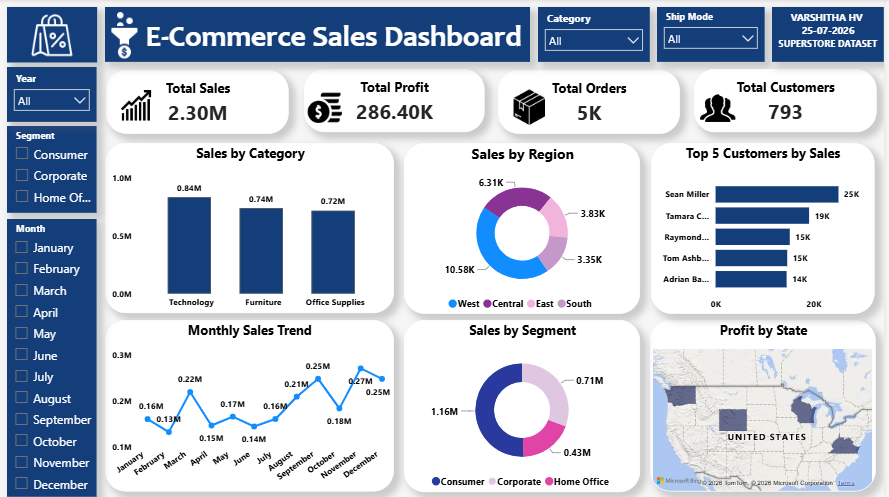

What the dashboard file says about the page in this screenshot:
{"tool":"powerbi","page":{"name":"Page 1","canvas":[1280,720],"ordinal":0},"visuals":[{"type":"cardVisual","fields":{"Data":["Cleaned data.Total Sales"]},"box":[160,101.7,263.3,91.7],"z":0},{"type":"cardVisual","fields":{"Data":["Cleaned data.Total Profit"]},"box":[444.8,101.5,259.7,91],"z":1000},{"type":"cardVisual","fields":{"Data":["Cleaned data.Total Orders"]},"box":[725,101.7,261.7,91.7],"z":2000},{"type":"clusteredColumnChart","title":"Sales by Category","fields":{"Category":["Cleaned data.Category"],"Y":["Sum(Cleaned data.Sales)"]},"box":[158.4,207.4,416.2,244.8],"z":3000},{"type":"filledMap","title":"Profit by State","fields":{"Category":["Cleaned data.State"]},"box":[943.3,461.7,325,246.7],"z":4000},{"type":"donutChart","title":"Sales by Region","fields":{"Category":["Cleaned data.Region"],"Y":["Sum(Cleaned data.Sales)"]},"box":[588.3,206.7,340,246],"z":5000},{"type":"lineChart","title":"Monthly Sales Trend","fields":{"Category":["Cleaned data.Order Date.Variation.Date Hierarchy.Month"],"Y":["Sum(Cleaned data.Sales)"]},"box":[158.4,462.2,416.2,247],"z":6000},{"type":"shape","box":[17.1,12,129.9,80],"z":7000},{"type":"textbox","box":[158.2,11.9,611.9,79.1],"z":8000},{"type":"slicer","fields":{"Values":["Cleaned data.Category"]},"box":[782.1,11.9,161.2,79.1],"z":9000},{"type":"slicer","fields":{"Values":["Cleaned data.Segment"]},"box":[17.1,182.9,129,124.8],"z":10000},{"type":"slicer","fields":{"Values":["Cleaned data.Order Date.Variation.Date Hierarchy.Year"]},"box":[17.1,97.4,129,78.6],"z":11000},{"type":"slicer","fields":{"Values":["Cleaned data.Ship Mode"]},"box":[953.7,11.9,155.2,79.1],"z":12000},{"type":"slicer","fields":{"Values":["Cleaned data.Order Date.Variation.Date Hierarchy.Month"]},"box":[17.1,316.2,129,400],"z":14000},{"type":"cardVisual","fields":{"Data":["Cleaned data.Total Customers"]},"box":[1006,101.5,262.7,91],"z":15000},{"type":"clusteredBarChart","title":"Top 5 Customers by Sales","fields":{"Category":["Cleaned data.Customer Name"],"Y":["Sum(Cleaned data.Sales)"]},"box":[944,206.7,322,246],"z":16000},{"type":"donutChart","title":" Sales by Segment","fields":{"Category":["Cleaned data.Segment"],"Y":["Sum(Cleaned data.Sales)"]},"box":[589,462.2,339.8,247.7],"z":17000},{"type":"image","box":[172.6,131.6,59.8,44.4],"z":18000},{"type":"image","box":[734.8,128.2,70.1,54.7],"z":19000},{"type":"image","box":[444.3,128.2,59.8,54.7],"z":20000},{"type":"image","box":[1015.1,128.2,51.3,59.8],"z":21000},{"type":"image","box":[16.4,20.9,131.9,60.9],"z":22000},{"type":"image","box":[146.7,18.3,78.6,66.6],"z":23000},{"type":"textbox","box":[1119.4,11.9,161.2,79.1],"z":24000}]}

Visuals, with their boxes in screenshot pixels (x1, y1, x2, y2), scaled from the page's 1280x720 canvas onto the 889x497 screenshot:
cardVisual - Cleaned data.Total Sales: left=111, top=70, right=294, bottom=133
cardVisual - Cleaned data.Total Profit: left=309, top=70, right=489, bottom=133
cardVisual - Cleaned data.Total Orders: left=504, top=70, right=685, bottom=133
"Sales by Category" clusteredColumnChart: left=110, top=143, right=399, bottom=312
"Profit by State" filledMap: left=655, top=319, right=881, bottom=489
"Sales by Region" donutChart: left=409, top=143, right=645, bottom=312
"Monthly Sales Trend" lineChart: left=110, top=319, right=399, bottom=490
shape: left=12, top=8, right=102, bottom=64
textbox: left=110, top=8, right=535, bottom=63
slicer - Cleaned data.Category: left=543, top=8, right=655, bottom=63
slicer - Cleaned data.Segment: left=12, top=126, right=101, bottom=212
slicer - Cleaned data.Order Date.Variation.Date Hierarchy.Year: left=12, top=67, right=101, bottom=121
slicer - Cleaned data.Ship Mode: left=662, top=8, right=770, bottom=63
slicer - Cleaned data.Order Date.Variation.Date Hierarchy.Month: left=12, top=218, right=101, bottom=494
cardVisual - Cleaned data.Total Customers: left=699, top=70, right=881, bottom=133
"Top 5 Customers by Sales" clusteredBarChart: left=656, top=143, right=879, bottom=312
" Sales by Segment" donutChart: left=409, top=319, right=645, bottom=490
image: left=120, top=91, right=161, bottom=121
image: left=510, top=88, right=559, bottom=126
image: left=309, top=88, right=350, bottom=126
image: left=705, top=88, right=741, bottom=130
image: left=11, top=14, right=103, bottom=56
image: left=102, top=13, right=156, bottom=59
textbox: left=777, top=8, right=888, bottom=63
